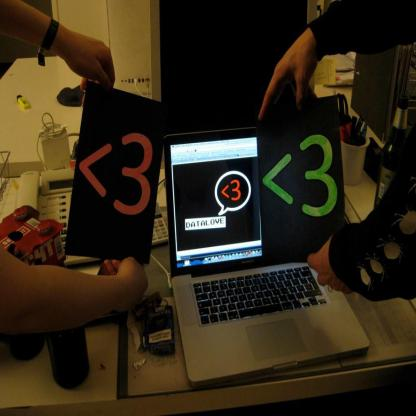board: (162, 124, 368, 386)
